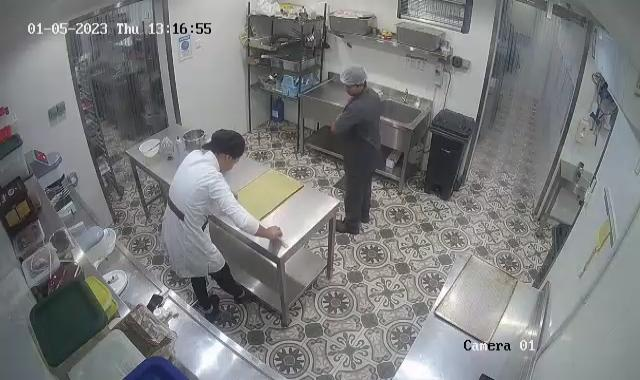hairnet: (342, 67, 369, 89)
no_hairnet: (208, 128, 246, 164)
